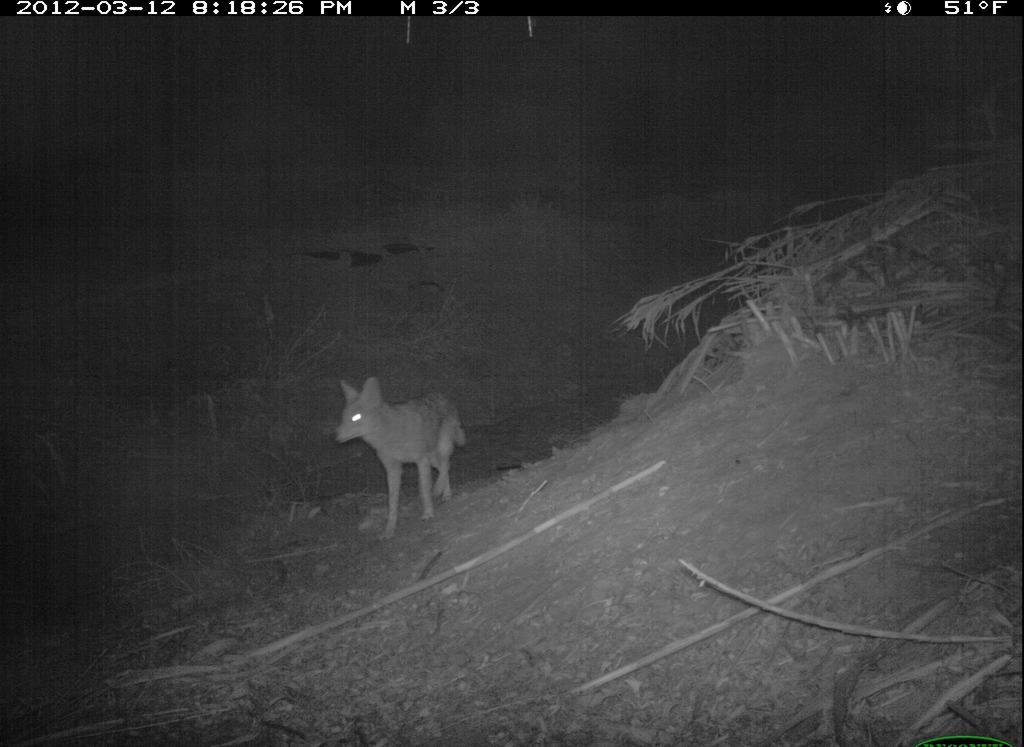coyote: (321, 369, 489, 543)
